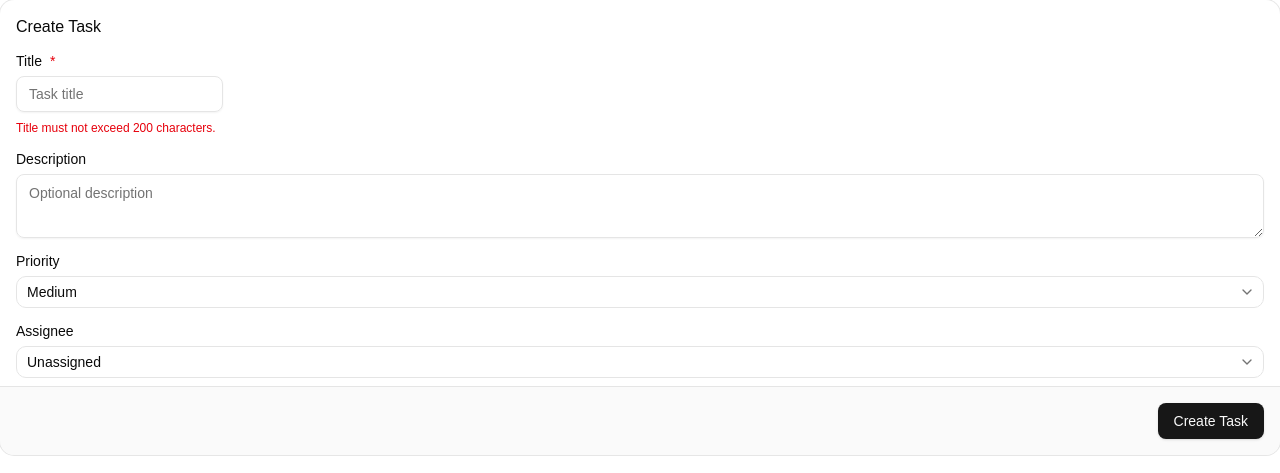
Scenario: TaskForm server-side field errors › clears title field error when user types in title
Expected: the text "Title must not exceed 200 characters." is shown, [16,121,216,135]
Type "New title" into the field labelled "Title *".
click(120, 94); type("New title")  # box [16,76,223,112]
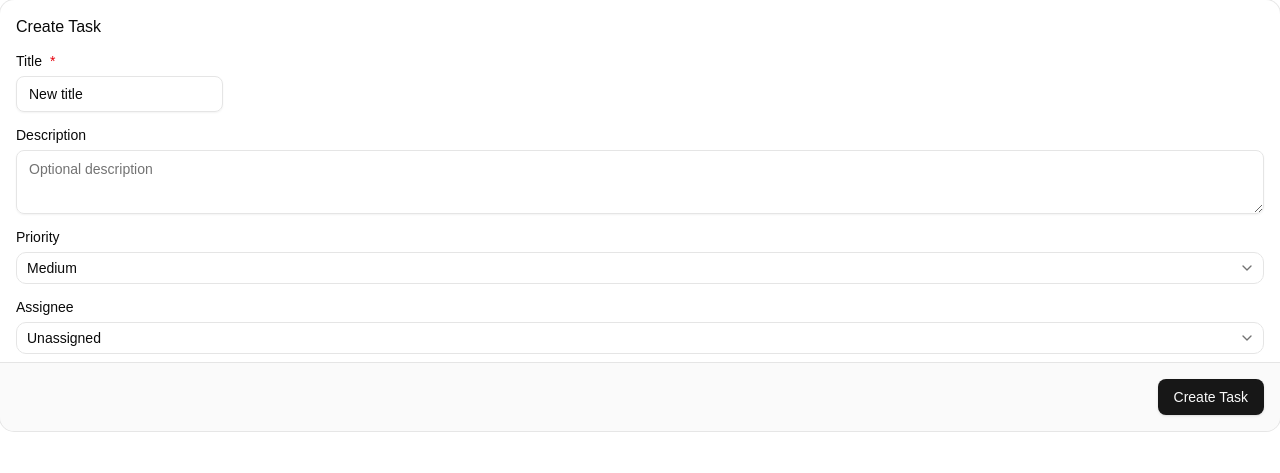
Expected: the text "Title must not exceed 200 characters." is gone
